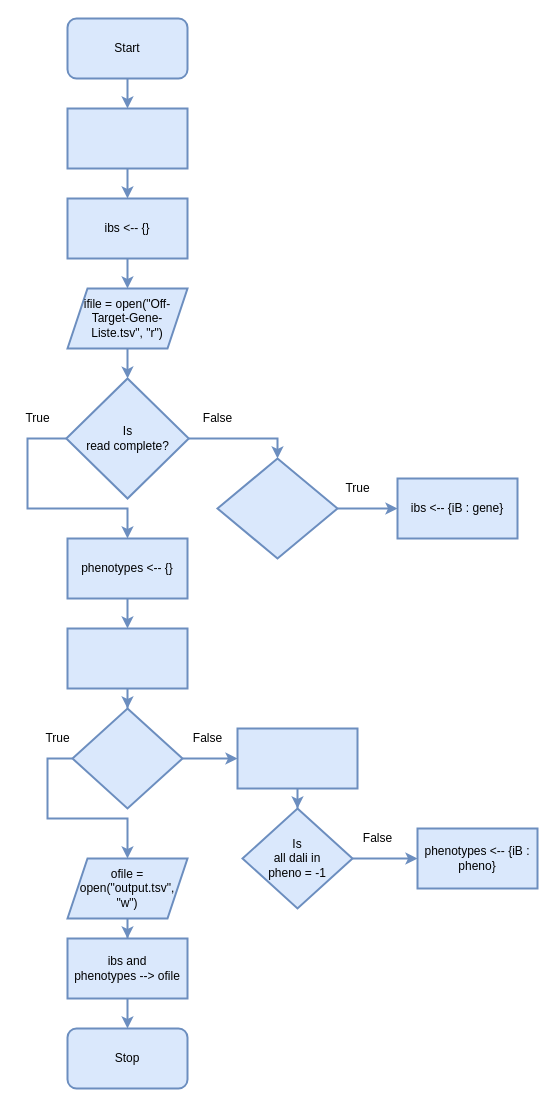
Some shapes in this 555 by 1106 pixel diagram are drawn without their labels. The centre of each missing label's shape, as x and y in pixels:
for ib in ibs.keys(): the point at 127,658
import ast import requests: the point at 127,138
Is all iB extracted?: the point at 127,758
Is genes of iB = 1: the point at 277,508
pheno <-- requests.get(url).text: the point at 297,758
